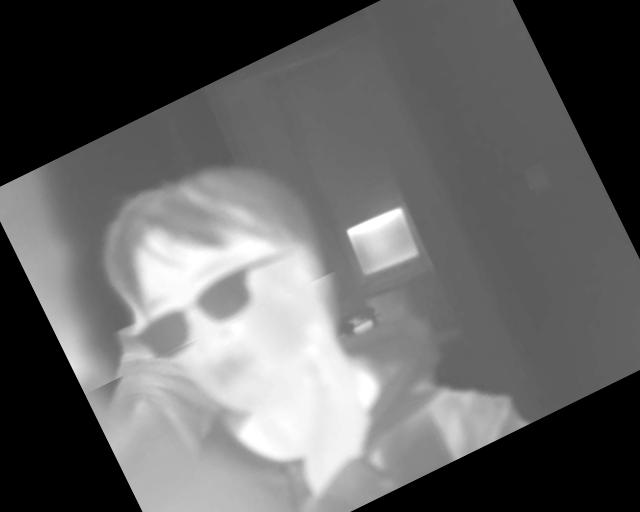face: (83, 129, 378, 440)
